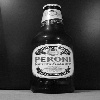beer: (30, 2, 76, 93)
